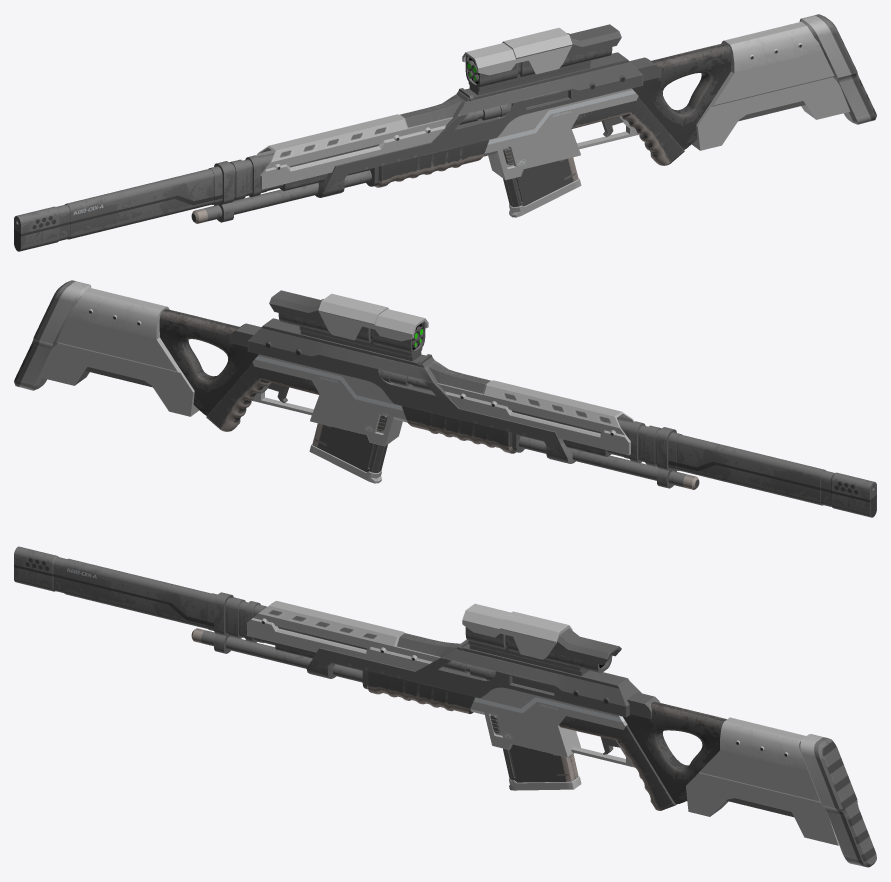
Rendered from gun_sniper.glb.
3 views of the same model, one above another, from view 1: azimuth 30°, elevation 25°; view 2: azimuth 150°, elevation 25°; view 3: azimuth 330°, elevation 25° (orthographic).
Visible parts, largest first — view 1: Gun_Sniper; view 2: Gun_Sniper; view 3: Gun_Sniper.
Part boxes in pixels (bbox=[...]): Gun_Sniper: bbox=[14, 14, 876, 251]; Gun_Sniper: bbox=[14, 280, 876, 517]; Gun_Sniper: bbox=[14, 546, 876, 867].
Bounding box in the file's own units: 1.72 × 0.3299 × 0.0592.
1 material, 1 textured.
